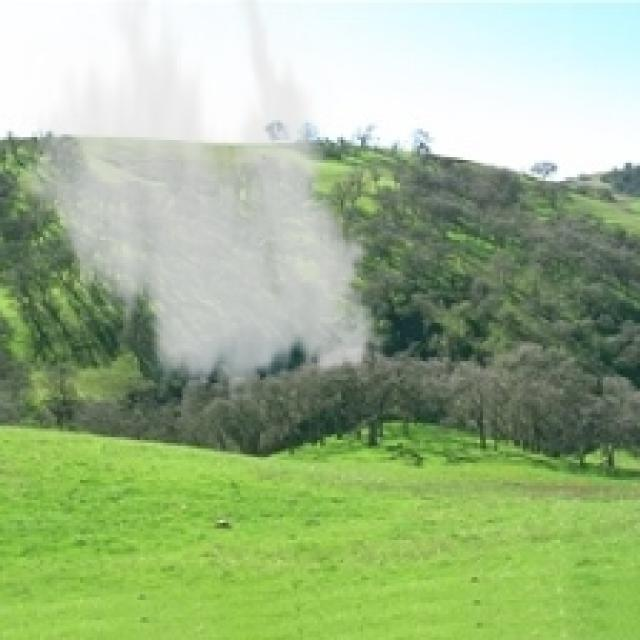smoke: (14, 0, 394, 406)
